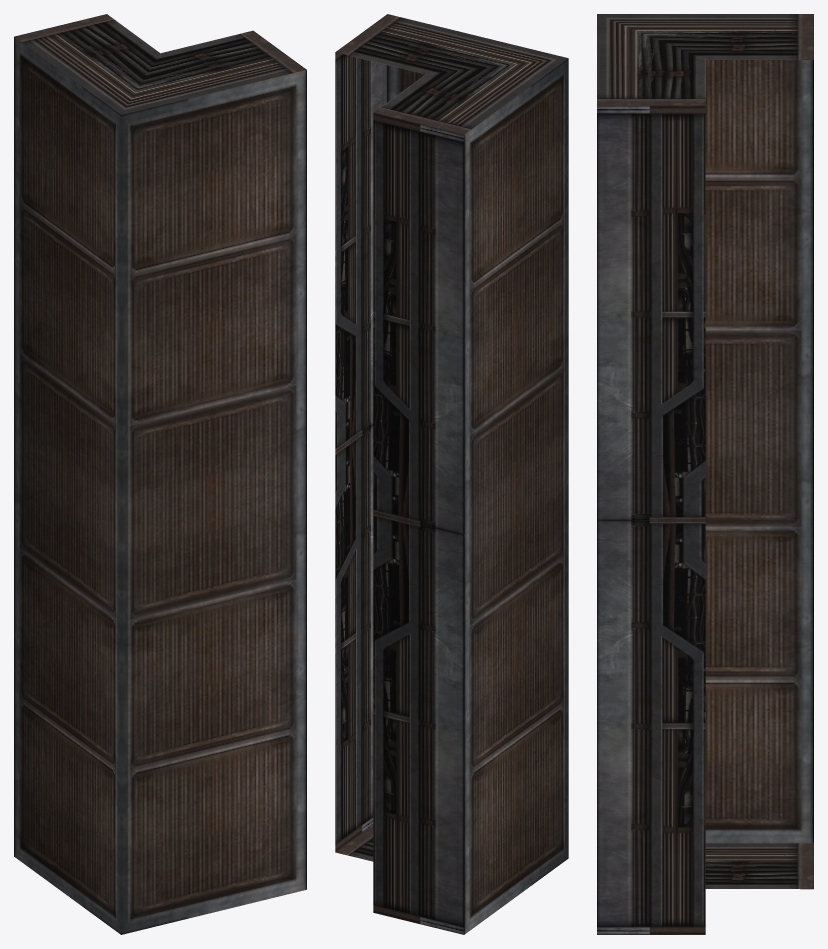
File: Pillar_04.fbx
The picture shows the model from 3 angles, left to right: view 1: azimuth 30°, elevation 25°; view 2: azimuth 150°, elevation 25°; view 3: azimuth 270°, elevation 25°; orthographic projection. The views are drawn at different scales.
Visible parts, largest first — view 1: Pillar_04; view 2: Pillar_04; view 3: Pillar_04.
Part boxes in pixels (bbox=[...]): Pillar_04: bbox=[14, 14, 306, 934]; Pillar_04: bbox=[335, 14, 568, 934]; Pillar_04: bbox=[597, 14, 813, 934].
Bounding box in the file's own units: 100 × 422 × 100.
Materials: 1 (1 with a texture image).
